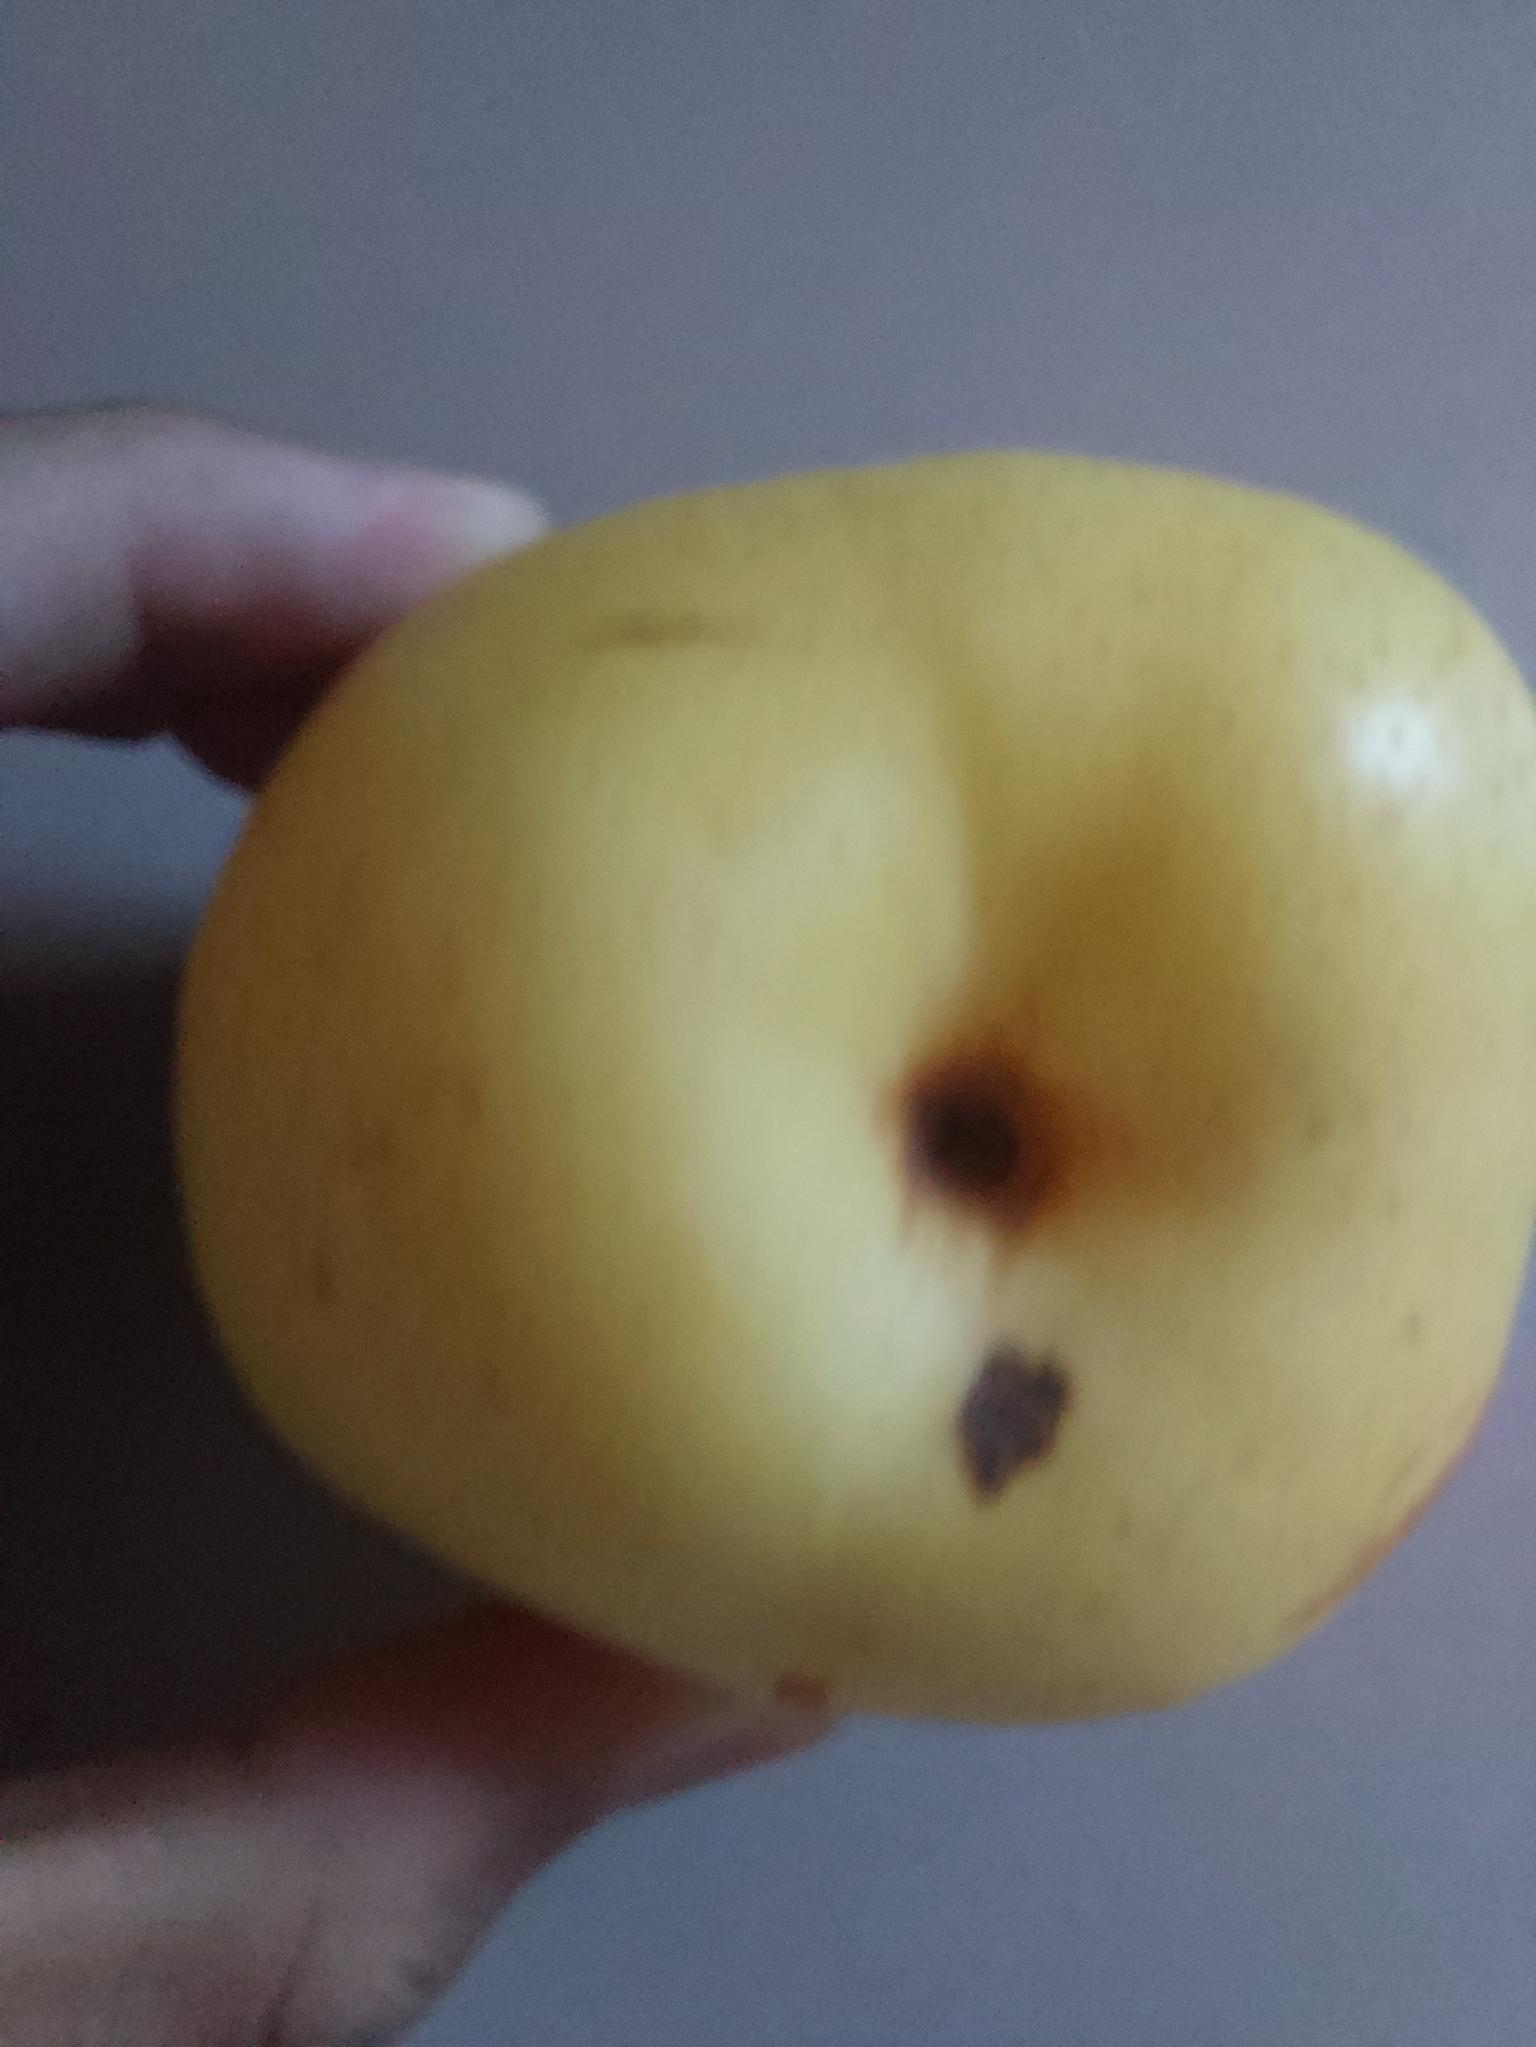Good Pear: (179, 442, 1536, 1720)
